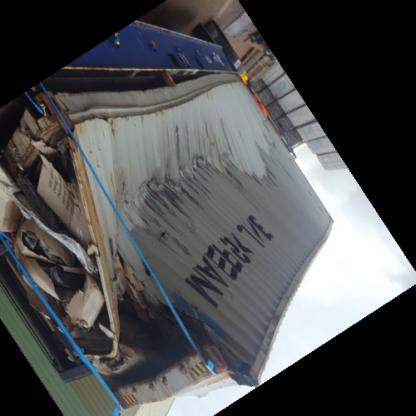Damage: (7, 74, 293, 390)
